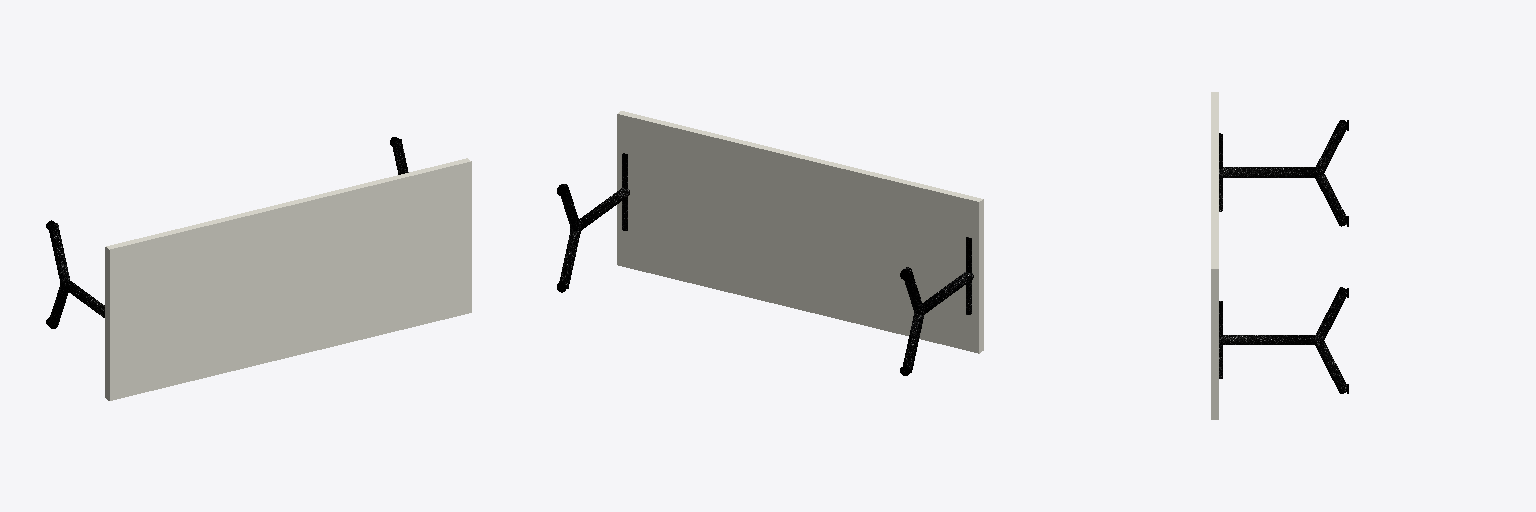
3 views of the same model, side by side, from view 1: azimuth 30°, elevation 25°; view 2: azimuth 150°, elevation 25°; view 3: azimuth 270°, elevation 25° (orthographic).
Size of the model in its own units: 2 by 0.8 by 0.6611.
Materials: 13 (1 with a texture image).